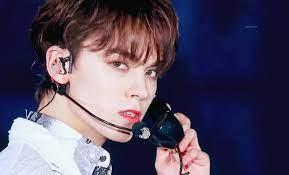earphone: (50, 56, 67, 76)
